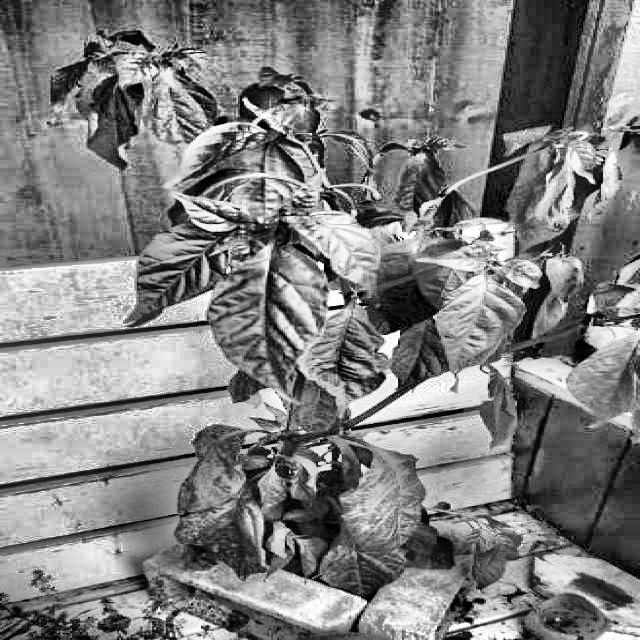plants: (59, 34, 625, 636)
